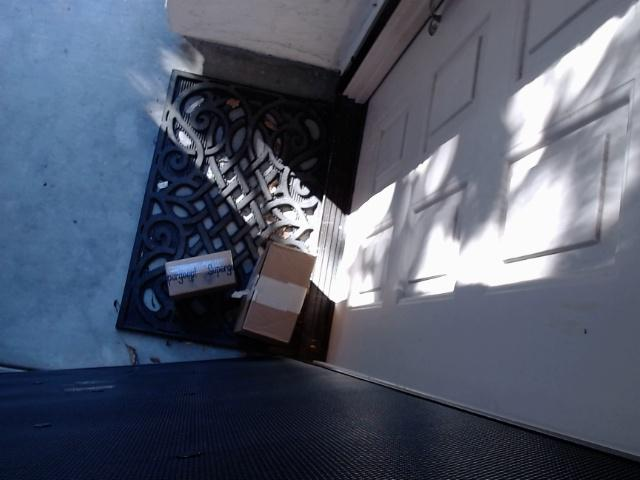box: (232, 241, 316, 347), (164, 249, 236, 302)
